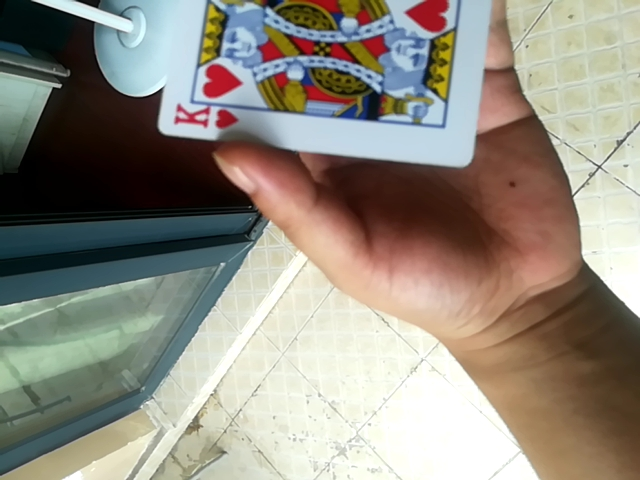hx k: (159, 0, 496, 169)
